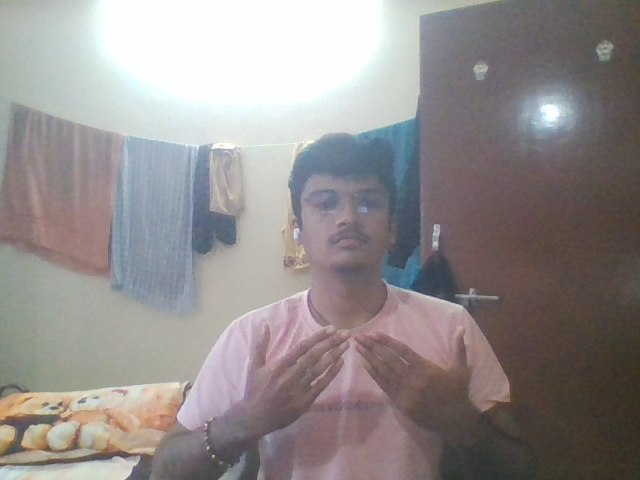thank you: (244, 306, 475, 434)
